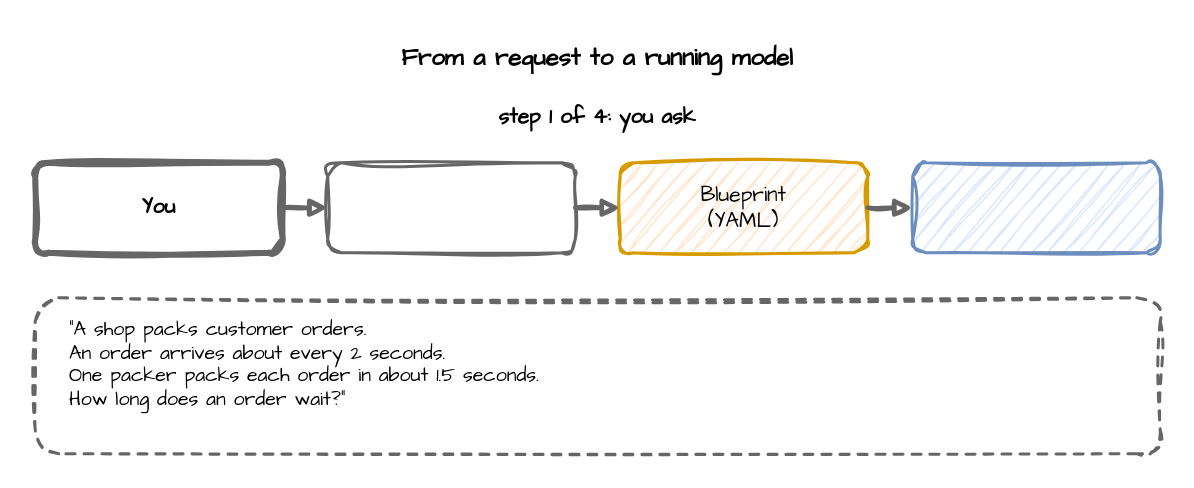
This 1194x488 diagram has some shape labels left out. The shapes that lost their labels are listed below. From the top down, each one's centre as x and y in pixels, then its label:
At (451,207): "Assistant with the skill".
At (1035,207): "desflow".
